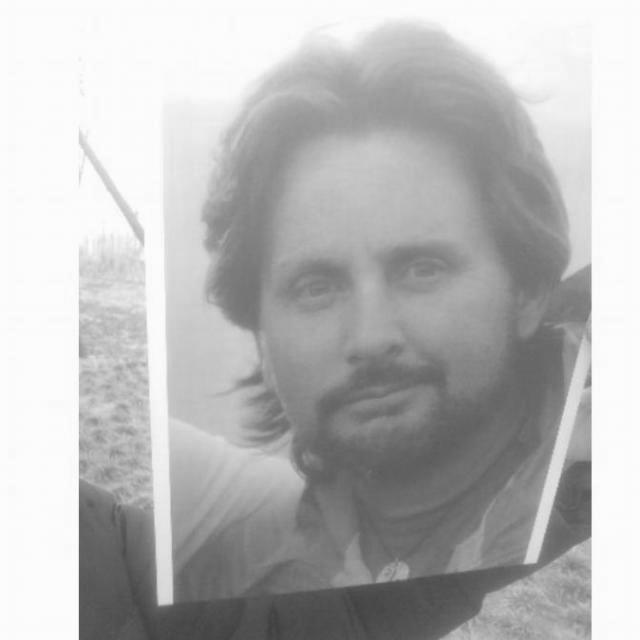fake: (127, 2, 590, 614)
